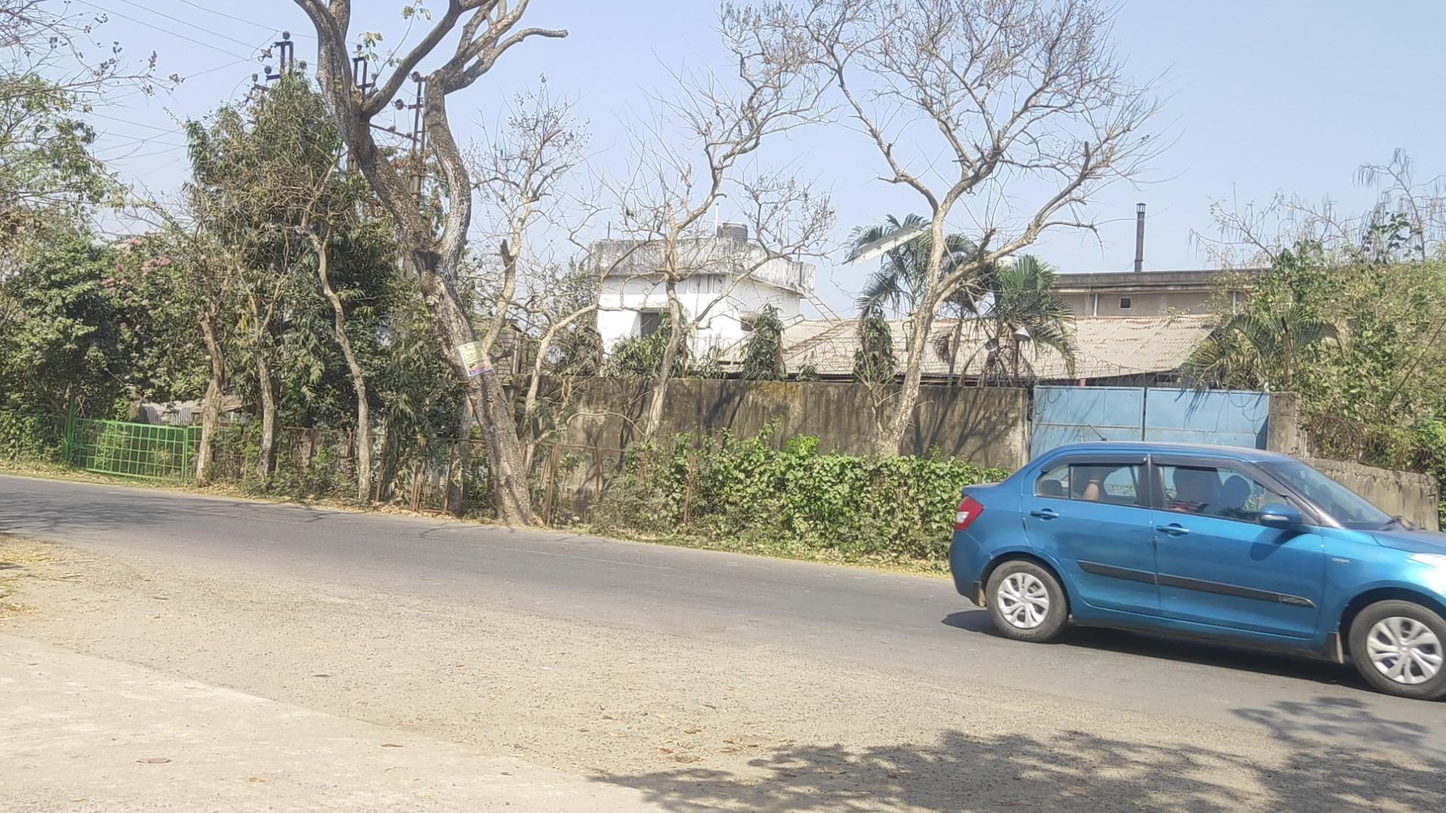car: (950, 439, 1446, 700)
